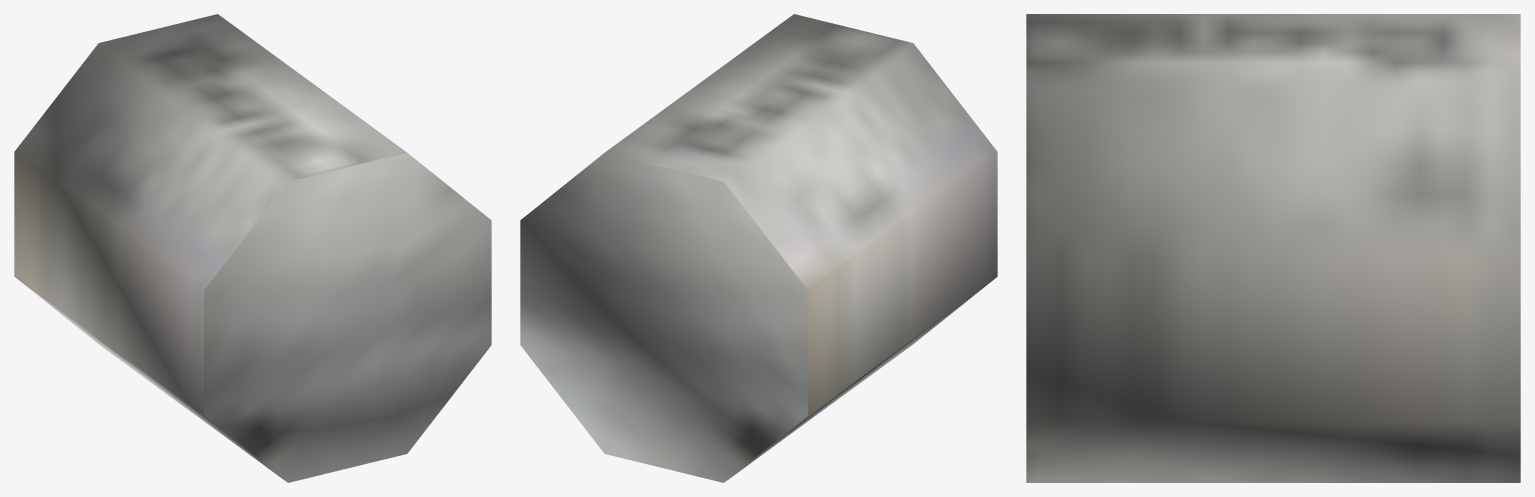
Rendered from wrist_pitch.dae.
3 views of the same model, side by side, from view 1: azimuth 30°, elevation 25°; view 2: azimuth 150°, elevation 25°; view 3: azimuth 270°, elevation 25° (orthographic). The views are drawn at different scales.
Visible parts, largest first — view 1: 29 DEXTRE.014; view 2: 29 DEXTRE.014; view 3: 29 DEXTRE.014.
Part boxes in pixels (bbox=[...]): 29 DEXTRE.014: bbox=[14, 14, 491, 482]; 29 DEXTRE.014: bbox=[520, 14, 997, 482]; 29 DEXTRE.014: bbox=[1026, 14, 1520, 482].
Bounding box in the file's own units: 0.2555 × 0.2914 × 0.2555.
1 material, 1 textured.
